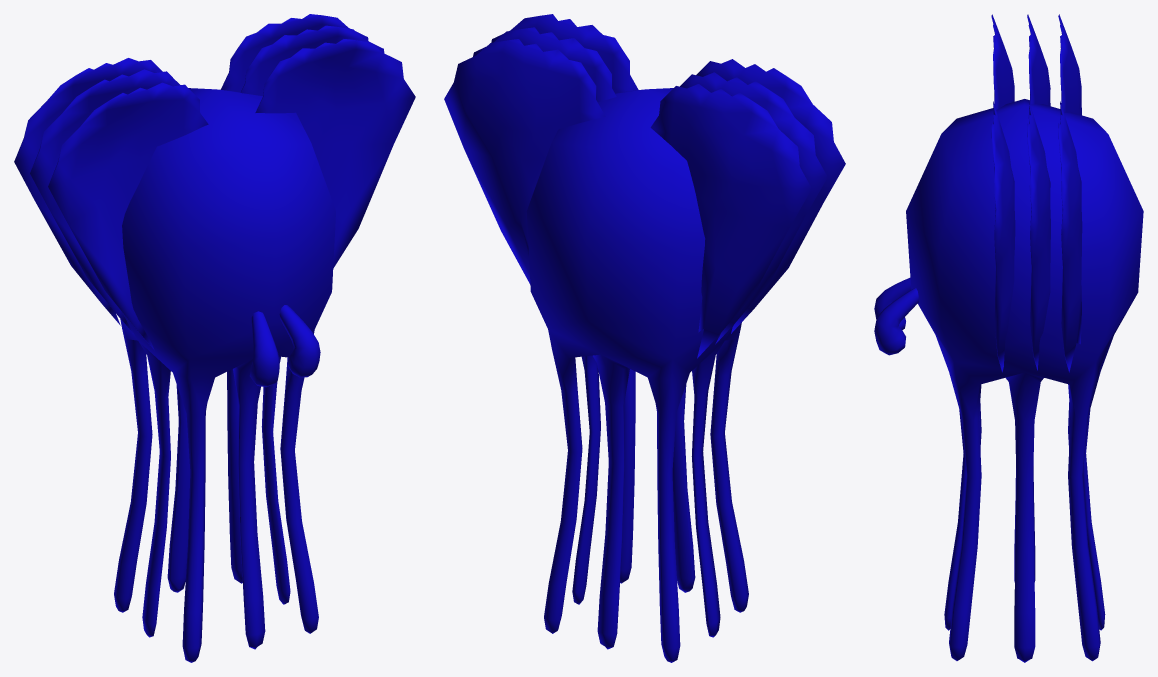
Rendered from OctopusBody.obj.
3 renders of one model, left to right at view 1: azimuth 30°, elevation 25°; view 2: azimuth 150°, elevation 25°; view 3: azimuth 270°, elevation 25°, orthographic.
Parts seen in each view (by area): view 1: Violet_Cube; view 2: Violet_Cube; view 3: Violet_Cube.
Part boxes in pixels (left/top/right/bottom): Violet_Cube: left=14, top=14, right=415, bottom=662; Violet_Cube: left=444, top=14, right=845, bottom=662; Violet_Cube: left=874, top=14, right=1143, bottom=662.
Size of the model in its own units: 3.06 by 4.53 by 1.96.
